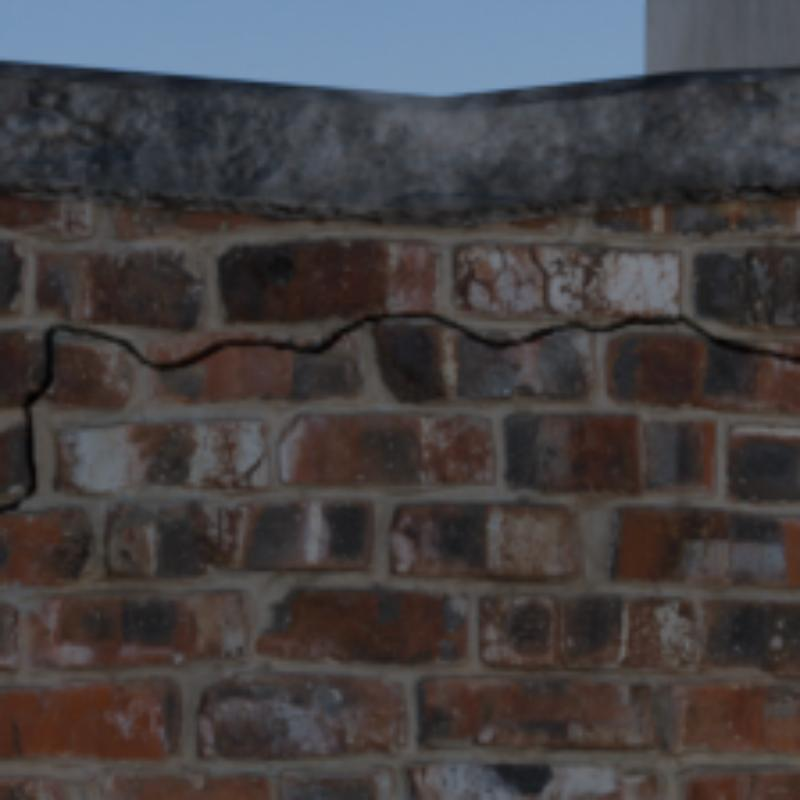pothole: (0, 311, 796, 511), (532, 243, 557, 314), (243, 457, 264, 479)
